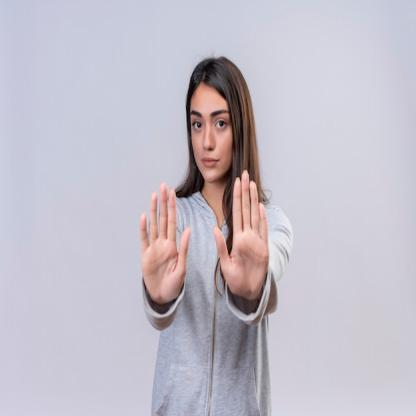stop: (211, 168, 271, 304), (138, 178, 192, 310)
